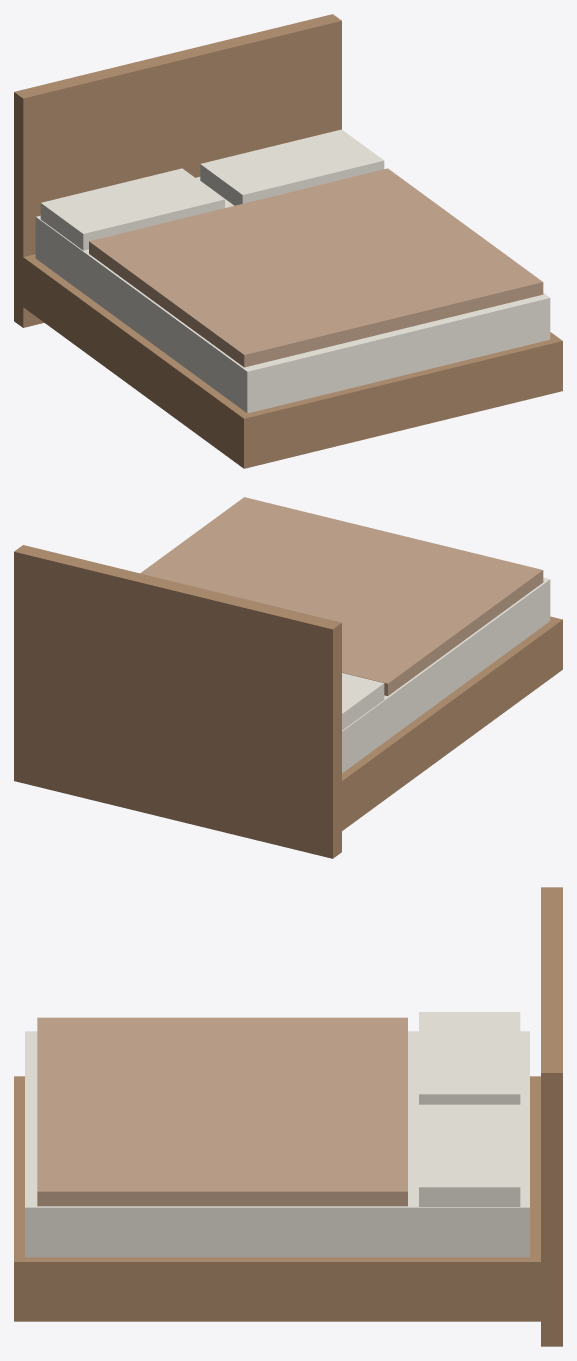
The model's file is BL-ASTER.glb.
3 views of the same model, one above another, from view 1: azimuth 30°, elevation 25°; view 2: azimuth 150°, elevation 25°; view 3: azimuth 270°, elevation 25° (orthographic). The views are drawn at different scales.
Visible parts, largest first — view 1: Duvet, Headboard, Frame, Mattress, Pillow (×2); view 2: Headboard, Duvet, Frame, Mattress, Pillow; view 3: Duvet, Frame, Mattress, Pillow (×2), Headboard.
Part boxes in pixels (x1,y1,x2,y2): Duvet: (89, 168, 543, 367); Headboard: (14, 14, 341, 327); Frame: (14, 254, 562, 468); Mattress: (35, 177, 550, 413); Pillow (×2): (40, 129, 384, 250); Headboard: (14, 545, 341, 858); Duvet: (140, 497, 543, 695); Frame: (14, 616, 562, 837); Mattress: (342, 577, 550, 772); Pillow: (342, 673, 384, 730); Duvet: (37, 1017, 407, 1206); Frame: (14, 1076, 562, 1321); Mattress: (25, 1031, 529, 1257); Pillow (×2): (419, 1012, 520, 1206); Headboard: (541, 887, 562, 1346).
Size of the model in its own units: 1.6 by 1.1 by 2.
